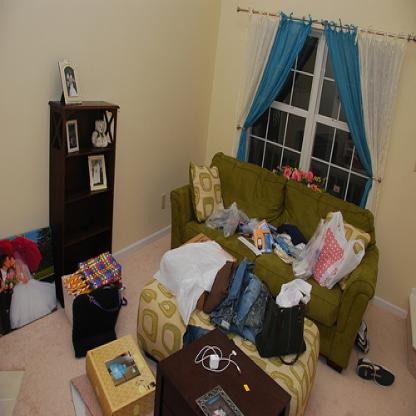sofa: (169, 150, 378, 372)
